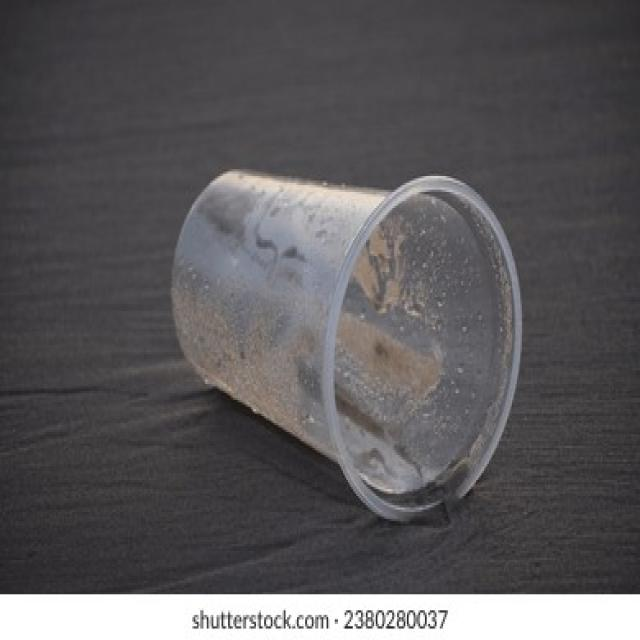plastic: (172, 158, 506, 516)
